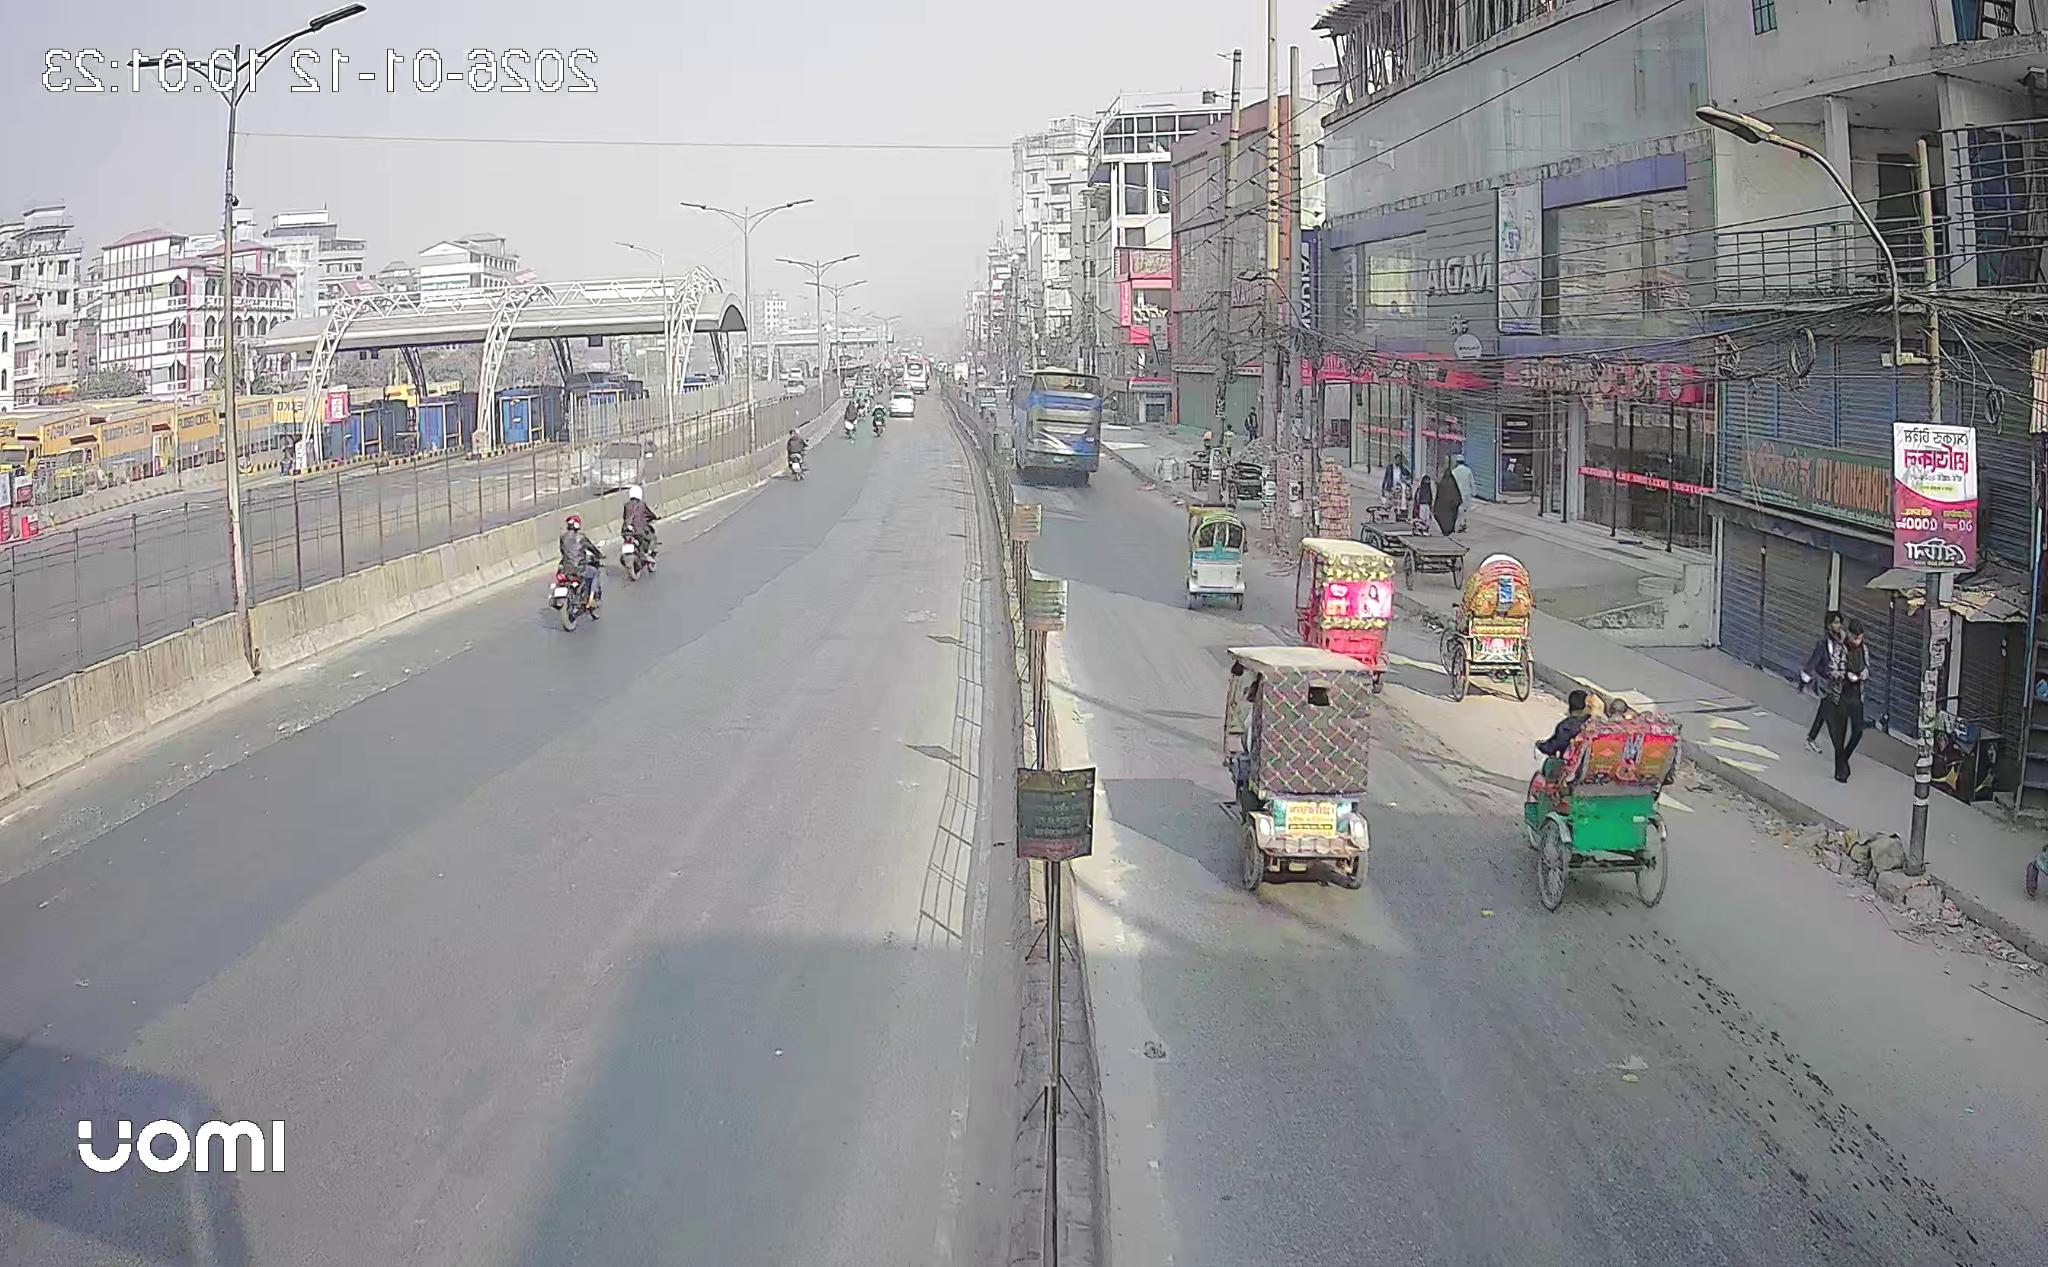Auto Rickshaw: (1223, 540, 1394, 890)
Bus: (1011, 369, 1103, 484)
Cycle Rickshaw: (1524, 688, 1681, 910), (1442, 556, 1535, 699), (1189, 508, 1245, 607)
Motorcycle: (551, 516, 606, 629), (620, 487, 658, 579)
